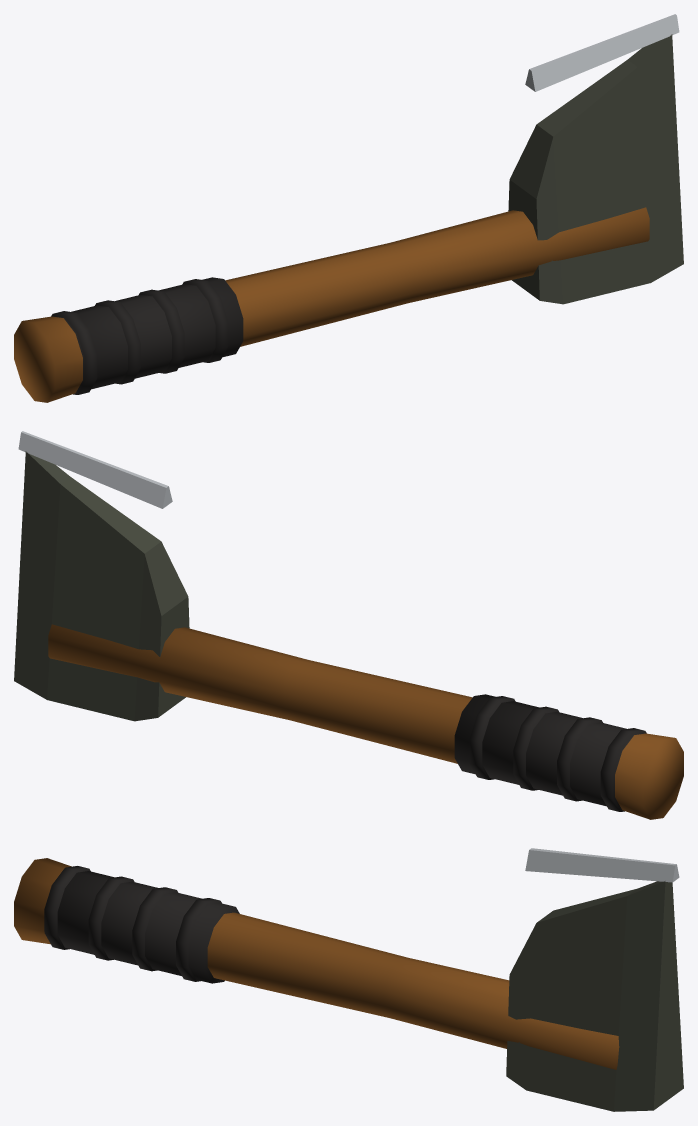
Rendered from item_hatchet.glb.
3 views of the same model, one above another, from view 1: azimuth 30°, elevation 25°; view 2: azimuth 150°, elevation 25°; view 3: azimuth 330°, elevation 25° (orthographic).
Visible parts, largest first — view 1: head, haft, grip, edge, grip_turn_3, grip_turn_0, grip_turn_2, grip_turn_1; view 2: head, haft, grip, edge, grip_turn_3, grip_turn_0, grip_turn_2, grip_turn_1; view 3: head, haft, grip, edge, grip_turn_1, grip_turn_0, grip_turn_2, grip_turn_3.
Boxes of the visible parts, box(x1,y1,x2,y2) form: head: box(508, 34, 683, 304); haft: box(14, 207, 649, 402); grip: box(52, 277, 243, 392); edge: box(525, 14, 679, 91); grip_turn_3: box(182, 279, 228, 362); grip_turn_0: box(51, 311, 97, 394); grip_turn_2: box(139, 289, 184, 373); grip_turn_1: box(95, 300, 140, 384); head: box(14, 451, 189, 721); haft: box(48, 624, 683, 819); grip: box(454, 694, 645, 809); edge: box(18, 431, 172, 508); grip_turn_3: box(469, 696, 515, 779); grip_turn_0: box(600, 728, 646, 811); grip_turn_2: box(513, 706, 558, 790); grip_turn_1: box(557, 717, 602, 801); head: box(506, 881, 683, 1111); haft: box(14, 858, 619, 1069); grip: box(44, 871, 239, 983); edge: box(525, 848, 679, 882); grip_turn_1: box(88, 876, 134, 960); grip_turn_0: box(44, 866, 90, 949); grip_turn_2: box(132, 887, 178, 971); grip_turn_3: box(176, 898, 221, 981).
Size of the model in its own units: 0.44 by 0.16 by 0.0488.
